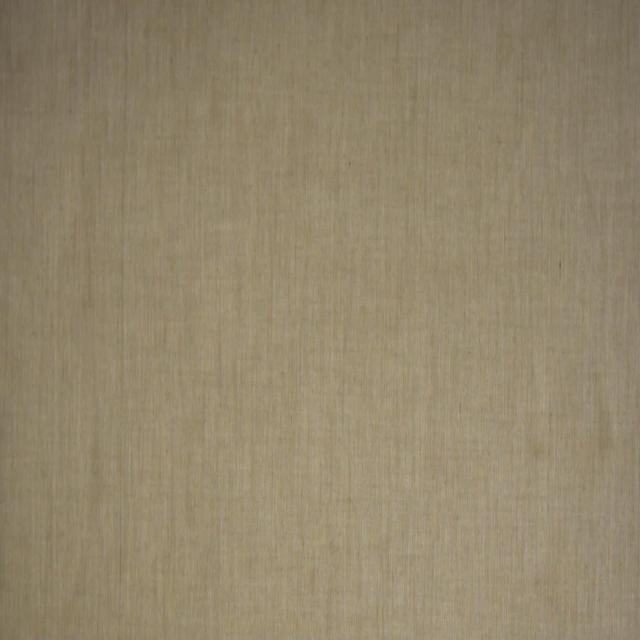dirty: (598, 406, 610, 447)
